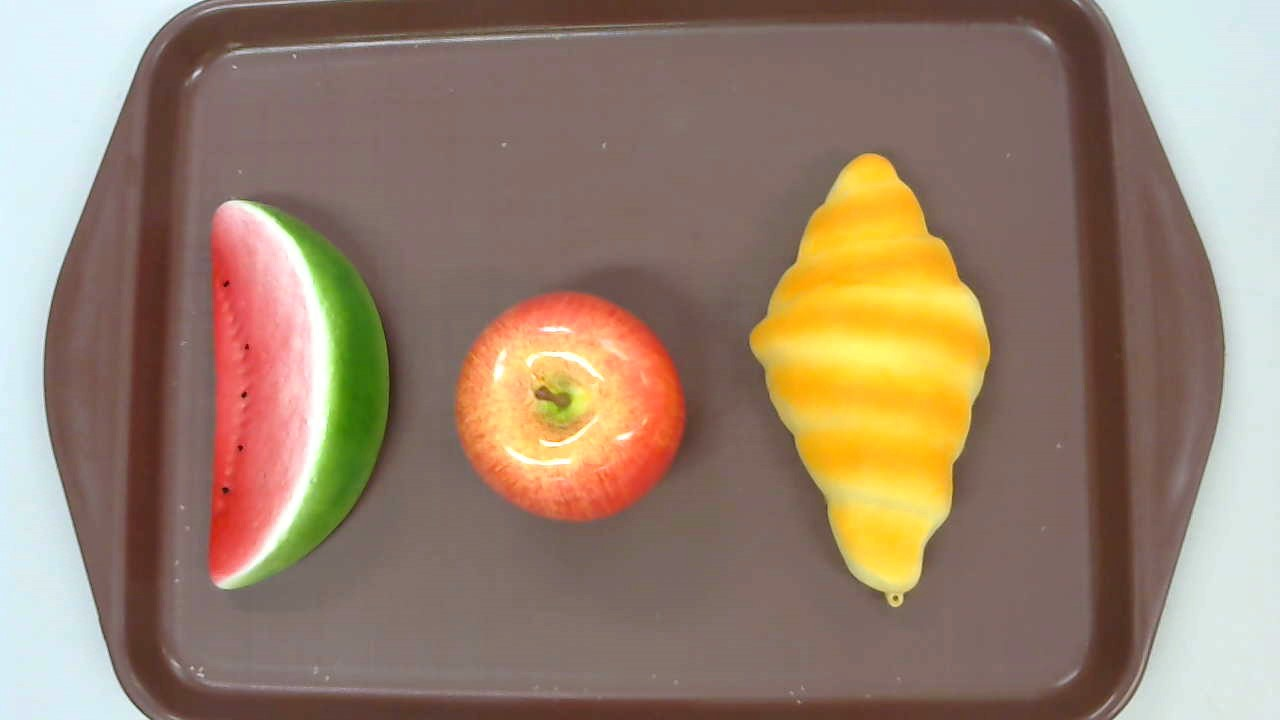croissant: (749, 153, 990, 609)
red apple: (453, 290, 687, 522)
water melon: (208, 198, 390, 590)
